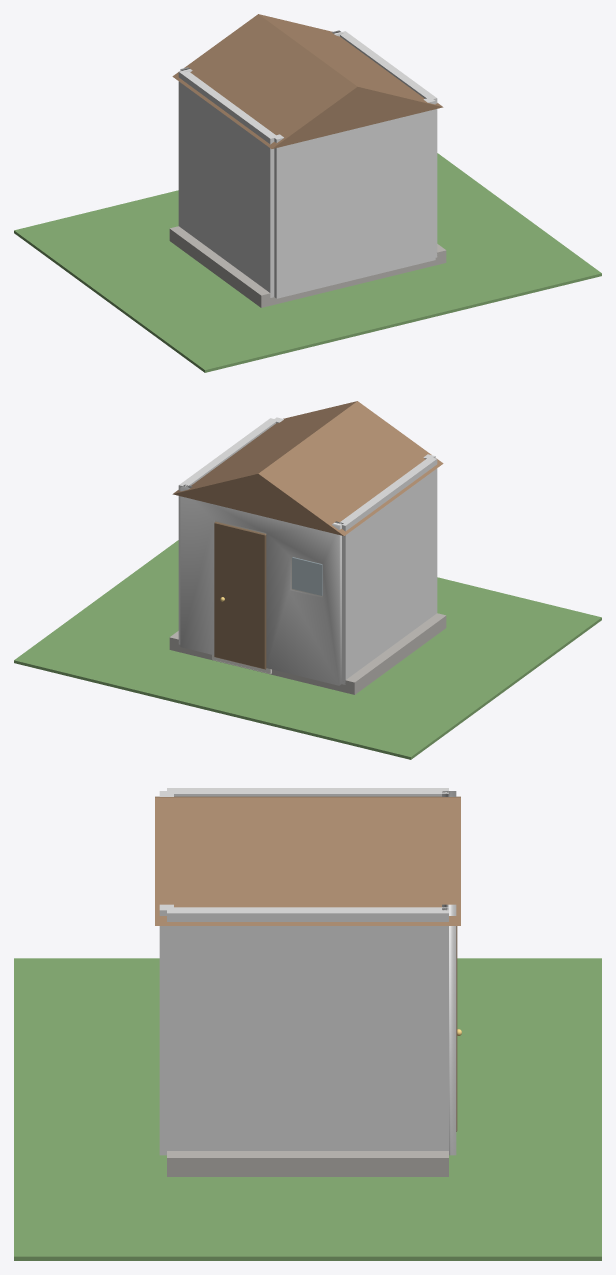
The model's file is garden_shed_wood.glb.
3 views of the same model, one above another, from view 1: azimuth 30°, elevation 25°; view 2: azimuth 150°, elevation 25°; view 3: azimuth 270°, elevation 25° (orthographic). The views are drawn at different scales.
Visible parts, largest first — view 1: ground, back_wall, roof, left_wall, foundation, right_wall; view 2: ground, roof, front_wall, left_wall, panel, foundation, right_wall, frame, glass; view 3: ground, right_wall, roof, foundation, left_wall, back_wall, front_wall.
Boxes of the visible parts, x1=… form: ground: x1=14, y1=153, x2=601, y2=372; back_wall: x1=272, y1=97, x2=435, y2=298; roof: x1=172, y1=14, x2=443, y2=148; left_wall: x1=178, y1=71, x2=276, y2=297; foundation: x1=169, y1=226, x2=446, y2=307; right_wall: x1=340, y1=31, x2=437, y2=257; ground: x1=14, y1=540, x2=601, y2=759; roof: x1=172, y1=401, x2=443, y2=535; front_wall: x1=180, y1=484, x2=343, y2=685; left_wall: x1=338, y1=458, x2=437, y2=684; panel: x1=214, y1=521, x2=266, y2=669; foundation: x1=169, y1=613, x2=446, y2=694; right_wall: x1=178, y1=418, x2=275, y2=644; frame: x1=291, y1=556, x2=322, y2=596; glass: x1=292, y1=557, x2=322, y2=595; ground: x1=14, y1=958, x2=601, y2=1260; right_wall: x1=167, y1=907, x2=448, y2=1150; roof: x1=155, y1=796, x2=460, y2=925; foundation: x1=167, y1=1151, x2=448, y2=1176; left_wall: x1=167, y1=788, x2=448, y2=796; back_wall: x1=159, y1=791, x2=173, y2=1155; front_wall: x1=442, y1=791, x2=456, y2=1155.
Size of the model in its own units: 6 by 2.95 by 5.
